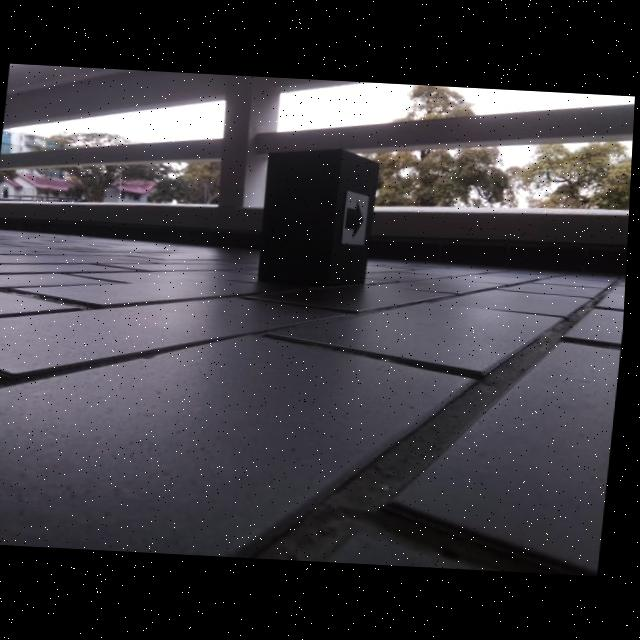RIGHT: (347, 199, 367, 240)
